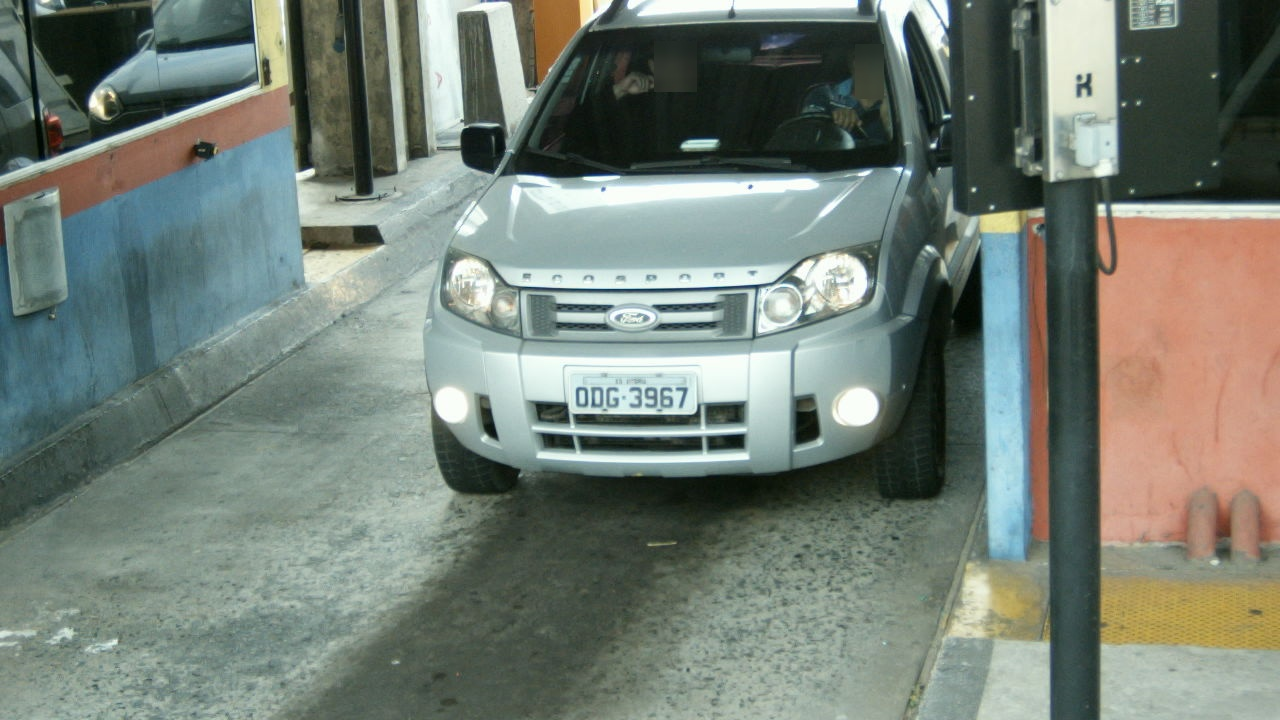placa: (569, 371, 698, 415)
